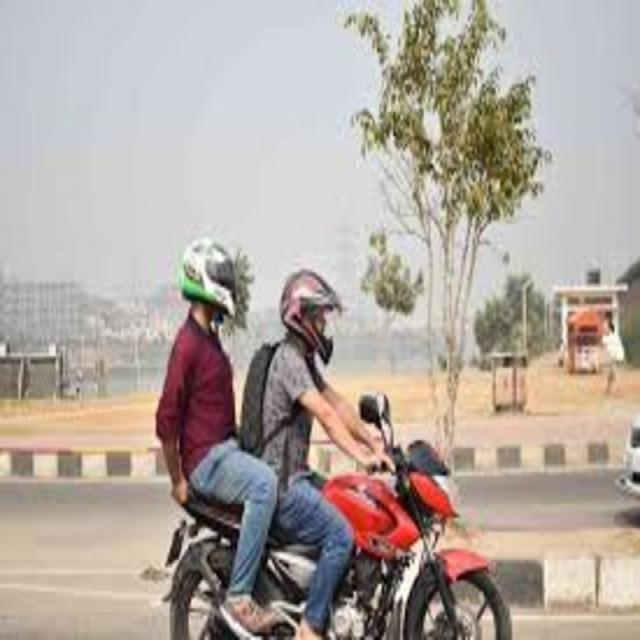not_triplets: (122, 202, 522, 640)
with-helmet: (273, 262, 354, 375), (174, 234, 243, 329)
